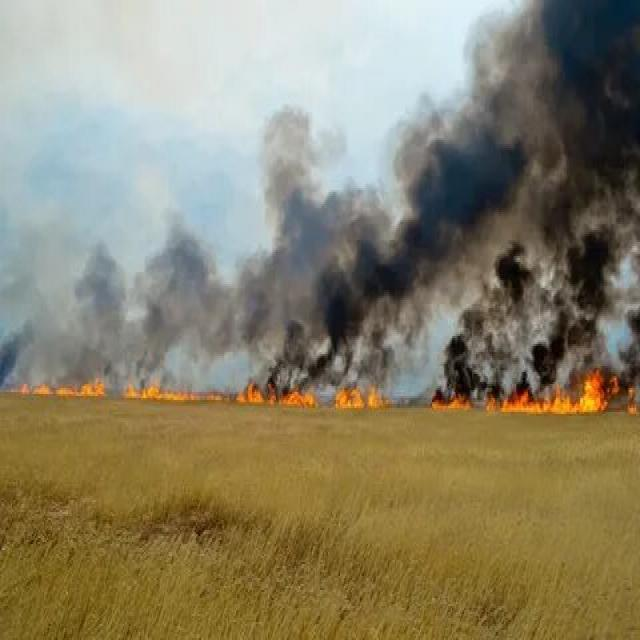Fire: (228, 352, 392, 424), (0, 368, 226, 417), (443, 371, 640, 427)
Smoke: (130, 29, 640, 360), (0, 171, 343, 351)
